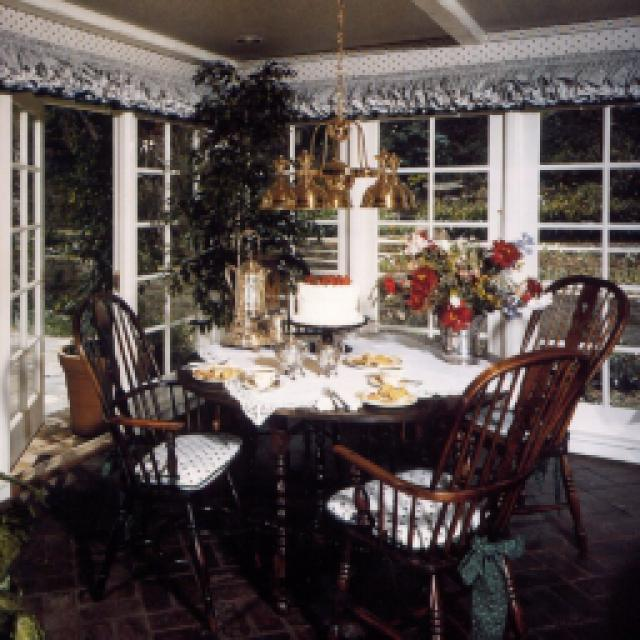2001: (362, 112, 492, 355), (535, 102, 635, 405), (132, 118, 195, 375)
bouquet: (372, 225, 545, 360)
cake occluded: (290, 278, 355, 318)
ceiling beam: (67, 0, 634, 58)
ceiling lamps: (255, 0, 415, 210)
chair -occluded-: (322, 342, 585, 630), (68, 290, 245, 610), (515, 270, 625, 550)
coffee pot: (222, 245, 268, 332)
cup and saucer: (375, 362, 420, 380), (250, 365, 275, 385)
curtain crop: (292, 45, 638, 118), (0, 30, 190, 120)
door bars: (0, 90, 42, 465)
door handle: (5, 98, 112, 470)
jar -X: (280, 340, 302, 370)
knife holder: (328, 388, 350, 408)
pillow occluded: (338, 465, 485, 542), (135, 430, 240, 482)
plant -x: (158, 52, 318, 328), (48, 120, 102, 432)
plate food: (282, 310, 365, 350), (360, 385, 410, 408), (190, 362, 242, 378), (342, 350, 398, 360)
table -X: (178, 312, 510, 420)
table crop: (195, 330, 510, 425)
